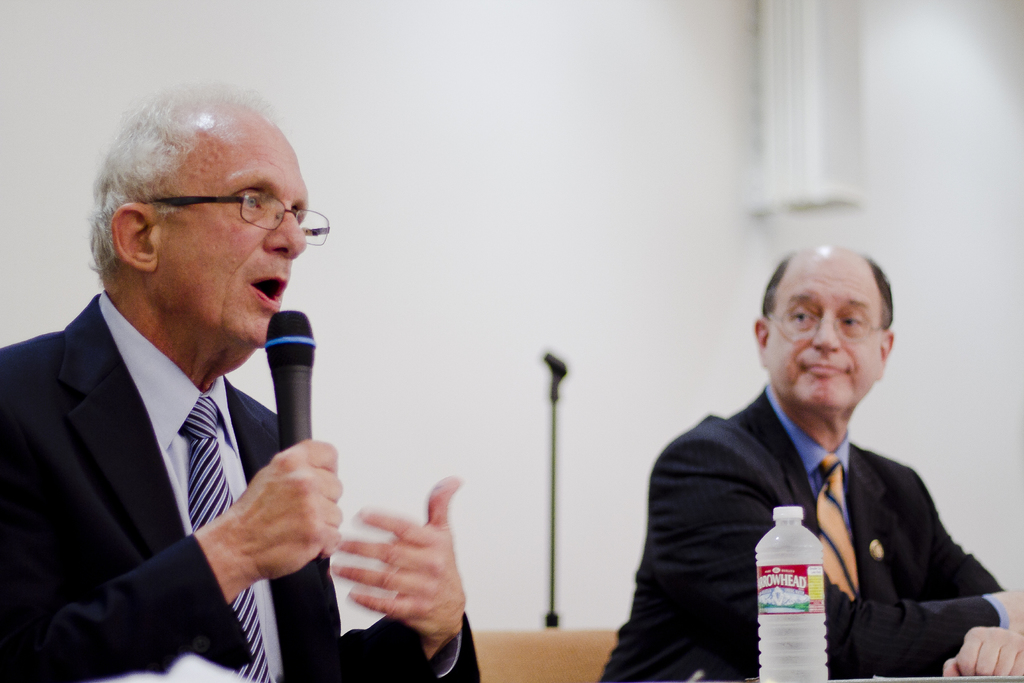face: (63, 71, 334, 383), (740, 245, 918, 457)
